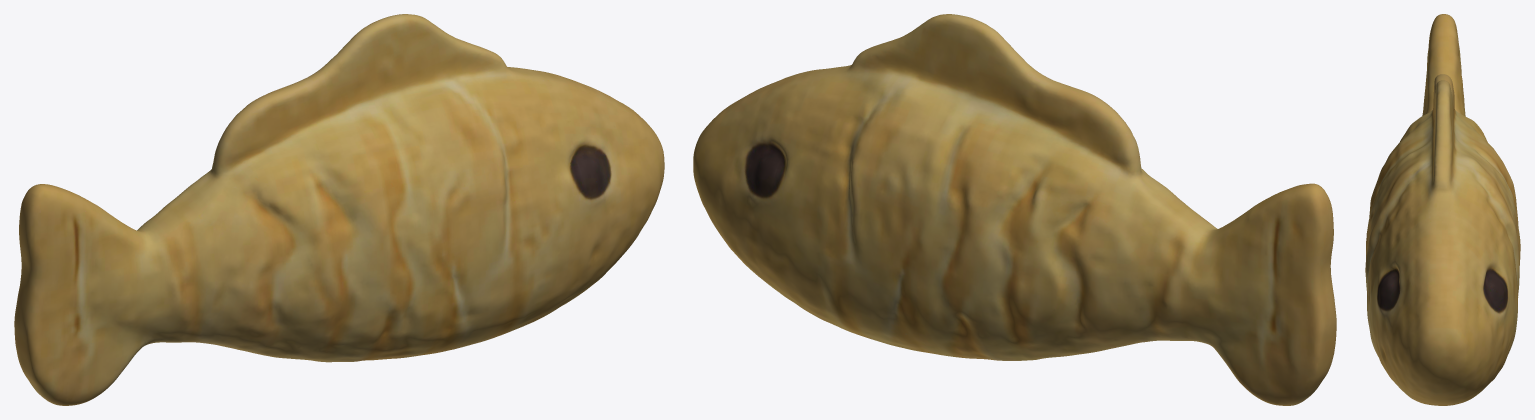
File: d9643b445744_Fish_shaped_bread__.fbx
3 renders of one model, left to right at view 1: azimuth 30°, elevation 25°; view 2: azimuth 150°, elevation 25°; view 3: azimuth 270°, elevation 25°, orthographic. The views are drawn at different scales.
Visible parts, largest first — view 1: high_poly; view 2: high_poly; view 3: high_poly.
Part boxes in pixels (x1=…): high_poly: x1=14, y1=14, x2=664, y2=405; high_poly: x1=693, y1=14, x2=1336, y2=405; high_poly: x1=1365, y1=14, x2=1520, y2=405.
Size of the model in its own units: 100 by 50.3 by 26.14.
